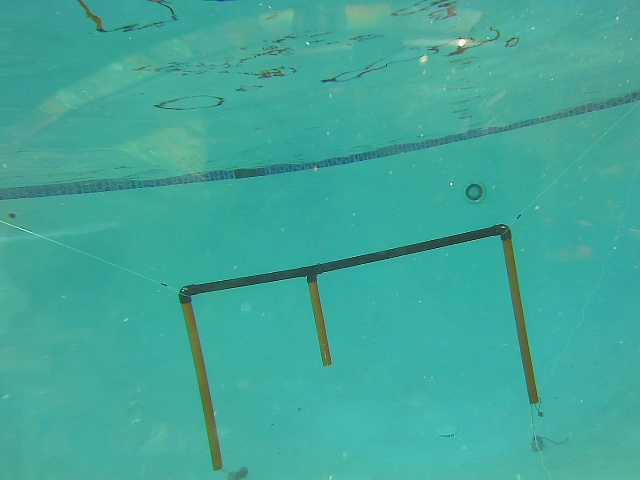Gate: (178, 297, 225, 473), (500, 233, 543, 408), (302, 276, 334, 367)
